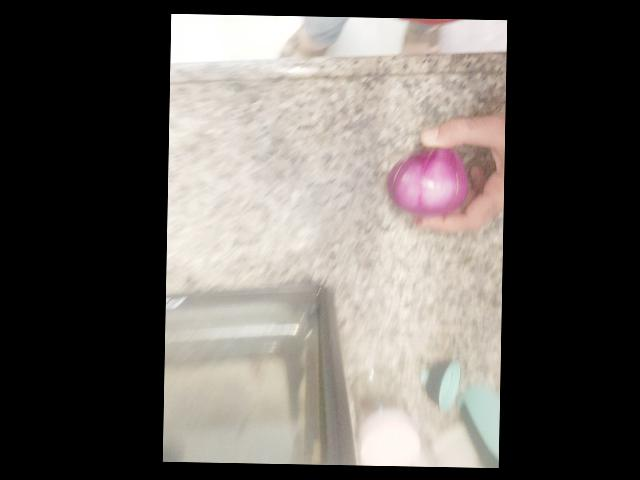onion: (388, 138, 471, 223)
